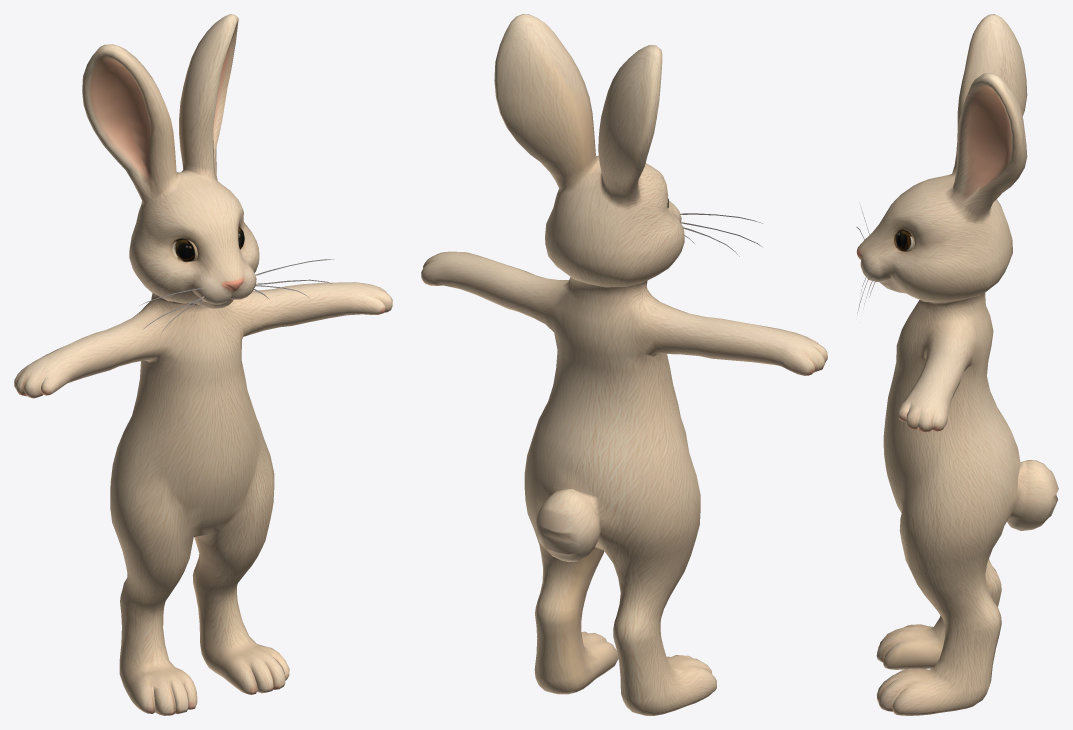
The model's file is rabbit.glb.
3 views of the same model, side by side, from view 1: azimuth 30°, elevation 25°; view 2: azimuth 150°, elevation 25°; view 3: azimuth 270°, elevation 25° (orthographic). The views are drawn at different scales.
Visible parts, largest first — view 1: rabbit; view 2: rabbit; view 3: rabbit.
Part boxes in pixels (x1,y1,x2,y2): rabbit: (14, 14, 392, 715); rabbit: (421, 14, 827, 715); rabbit: (856, 14, 1058, 715).
Bounding box in the file's own units: 0.6128 × 0.9995 × 0.2876.
Materials: 1 (1 with a texture image).
